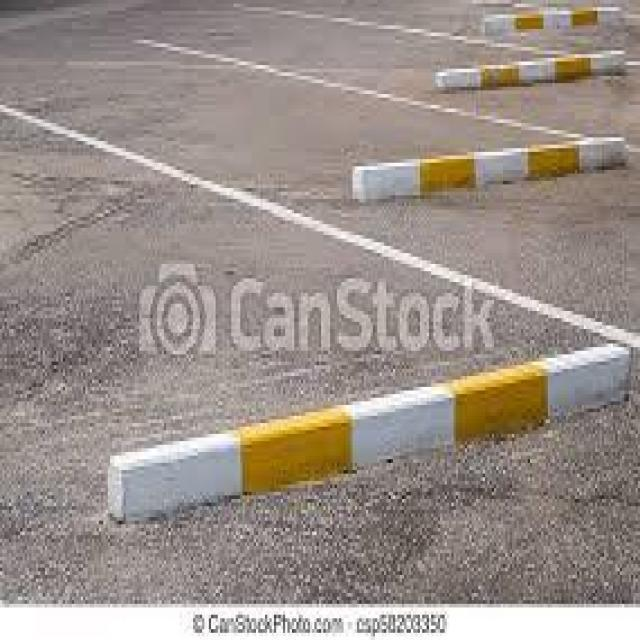bump: (96, 345, 640, 510), (350, 148, 640, 200)
